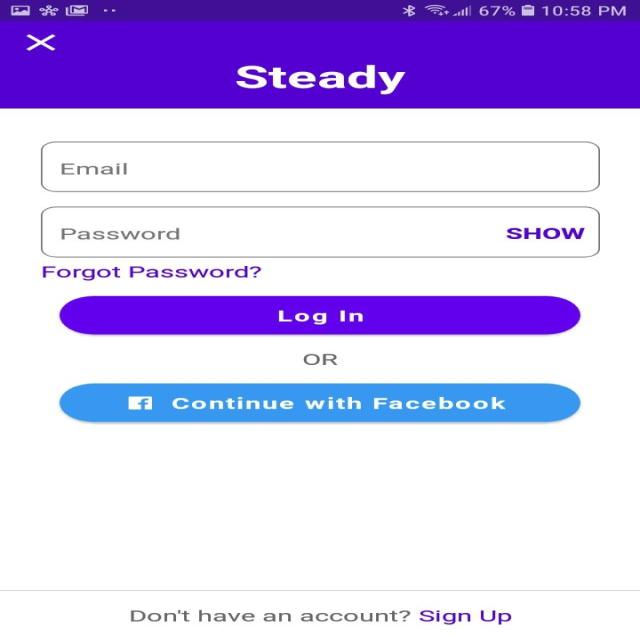EditText: (41, 206, 600, 257), (40, 141, 599, 192)
Icon: (26, 34, 56, 51)
Text: (129, 610, 512, 624), (235, 64, 406, 94), (42, 266, 262, 280), (62, 228, 180, 240), (506, 227, 584, 239), (61, 162, 127, 175), (303, 354, 338, 365)
TextButton: (58, 295, 580, 335), (58, 383, 580, 422)
